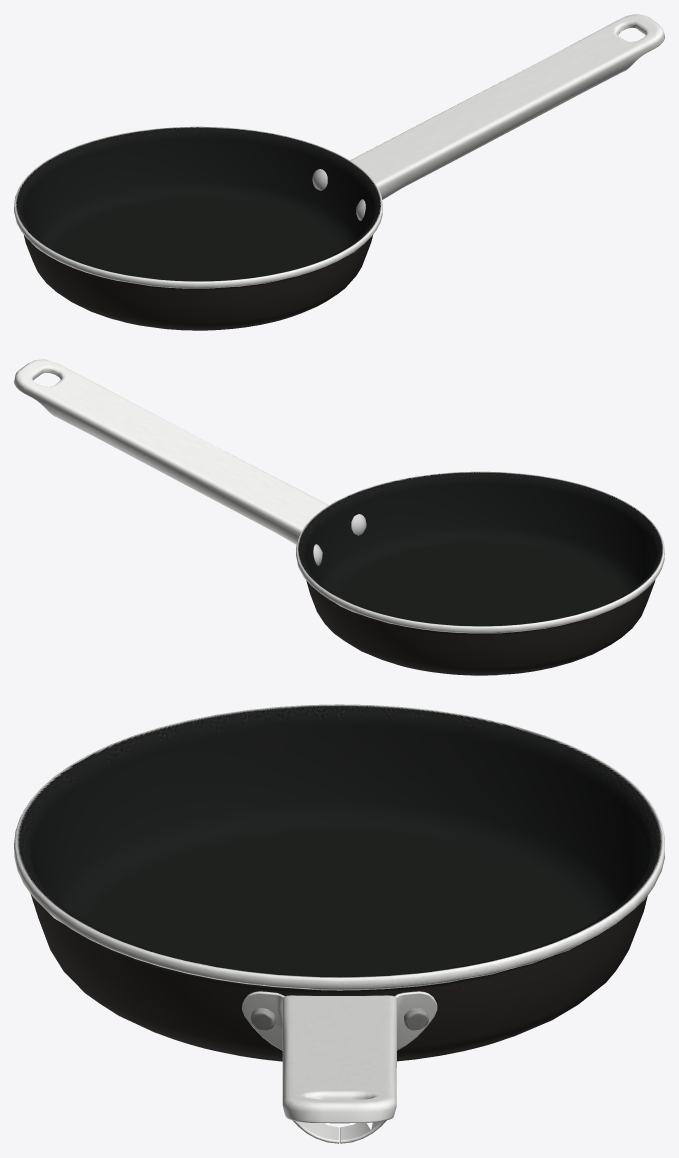
File: guldoring_patelnia_10609479.glb
The picture shows the model from 3 angles, top to bottom: view 1: azimuth 30°, elevation 25°; view 2: azimuth 150°, elevation 25°; view 3: azimuth 270°, elevation 25°; orthographic projection. The views are drawn at different scales.
Visible parts, largest first — view 1: guldoring_patelnia_10609479; view 2: guldoring_patelnia_10609479; view 3: guldoring_patelnia_10609479.
Boxes of the visible parts, x1,y1,x2,y2 form: guldoring_patelnia_10609479: (14, 14, 664, 330); guldoring_patelnia_10609479: (14, 359, 664, 675); guldoring_patelnia_10609479: (14, 704, 664, 1143).
Size of the model in its own units: 0.3266 by 0.0687 by 0.1686.
1 material, 1 textured.
